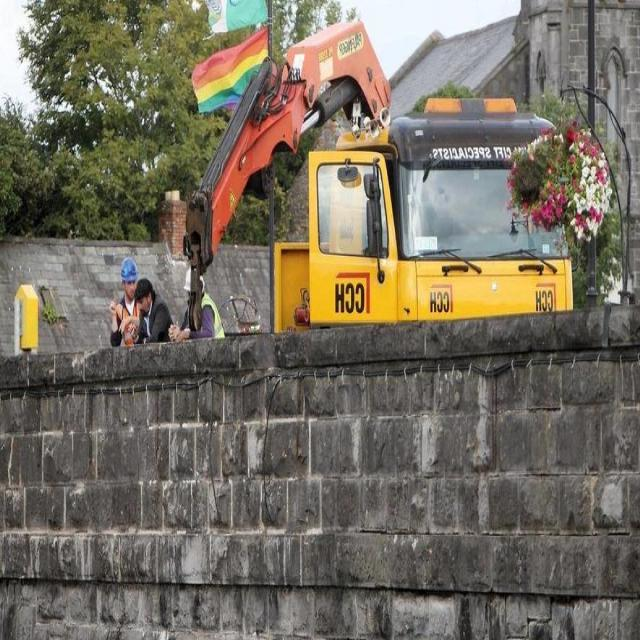Reflective-Jacket: (108, 292, 149, 350), (189, 292, 227, 341)
Safety-Helmet: (181, 262, 209, 295), (117, 252, 142, 284)
